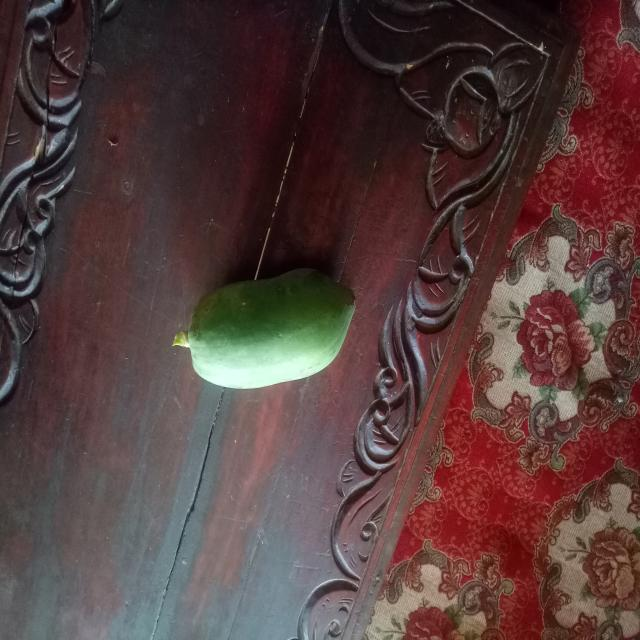Pepaya unrippen: (158, 265, 358, 402)
